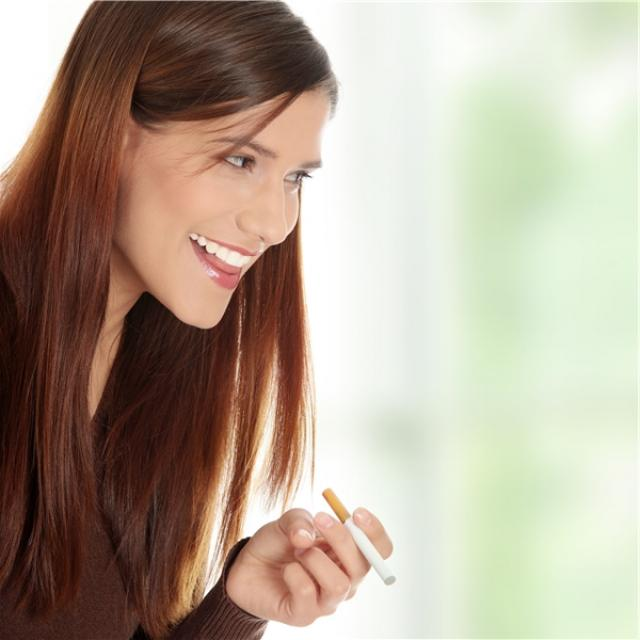smoking: (322, 484, 397, 588)
